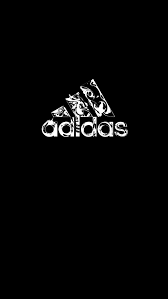adidas: (39, 79, 135, 136)
